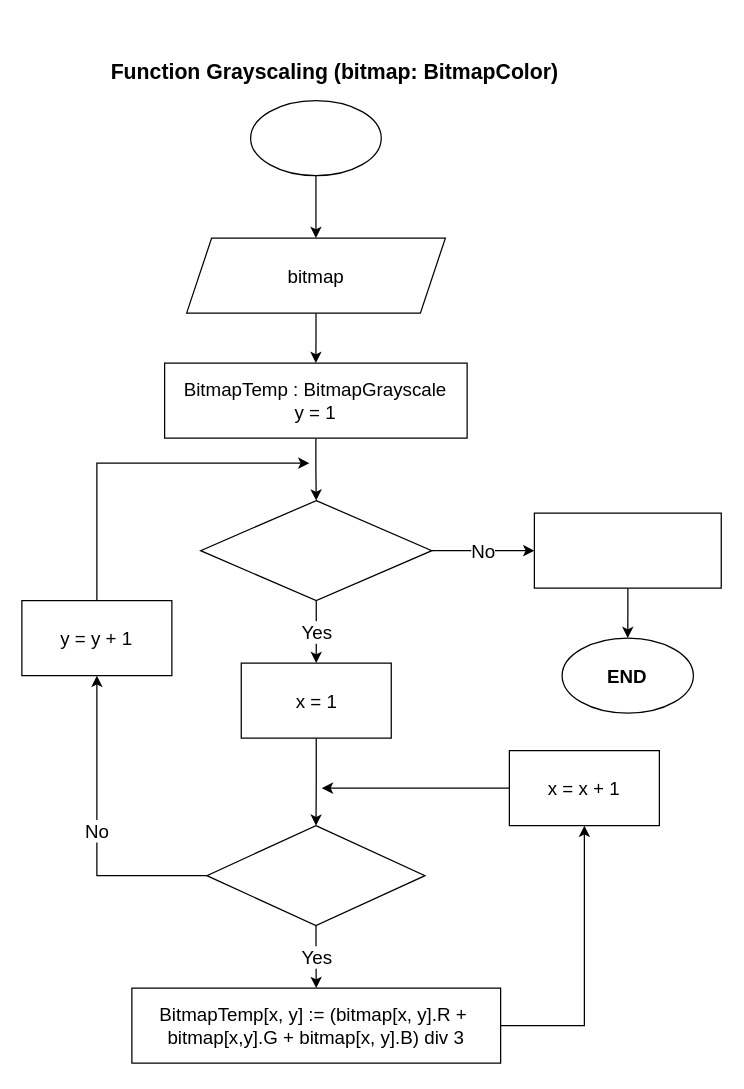
This 744x1089 diagram has some shape labels left out. Each missing label, with the centre of its shape:
return BitmapTemp: the point at 627,550
START: the point at 315,137
x <= imageWidth: the point at 315,875
y <= imageHeight: the point at 315,550
